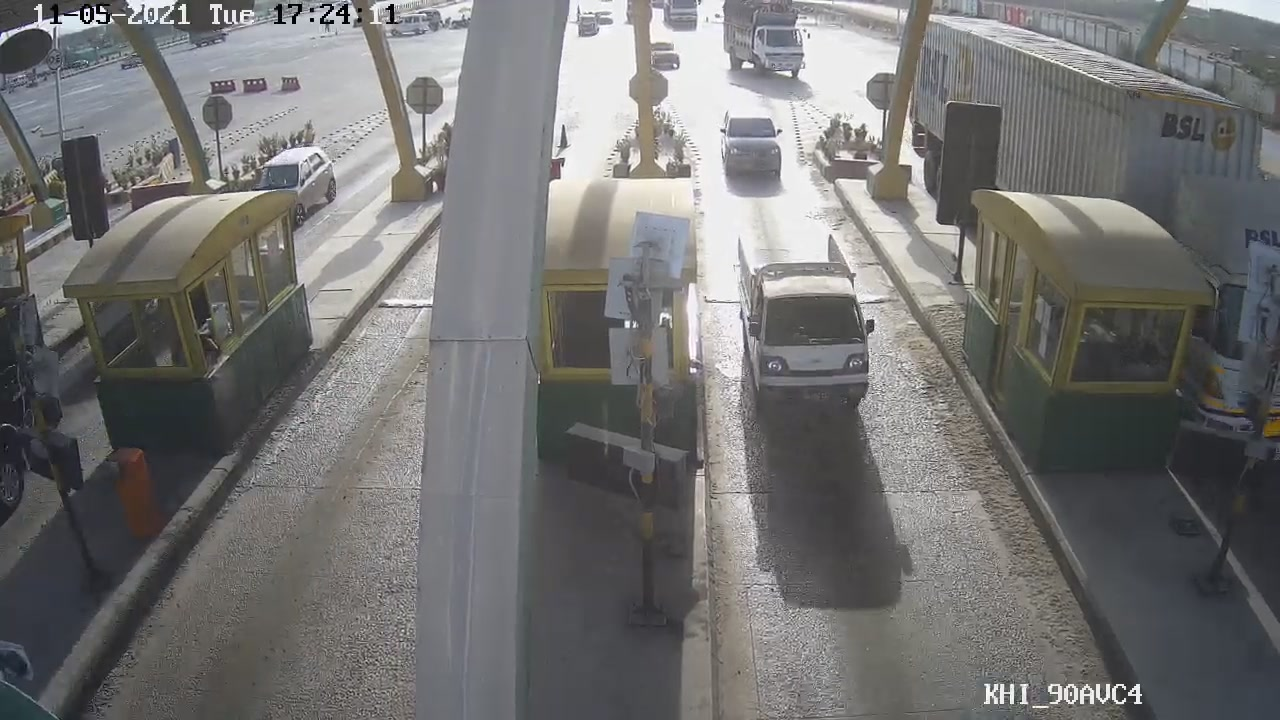F1: (727, 230, 880, 424)
